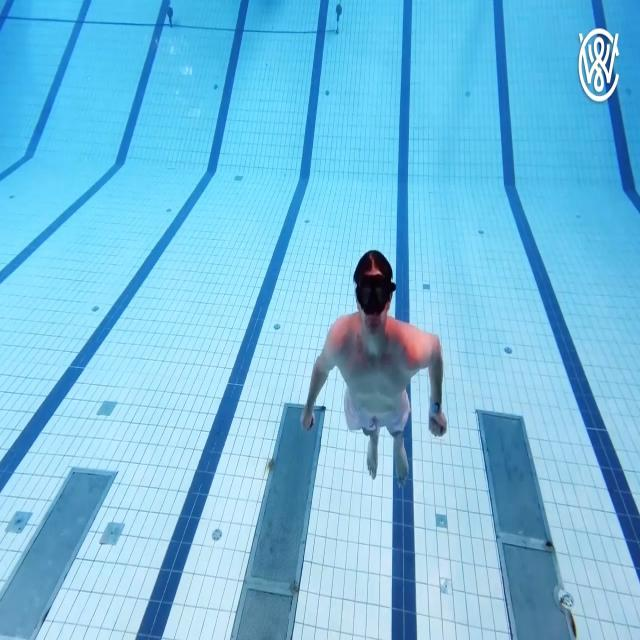Swimming: (302, 251, 448, 489)
